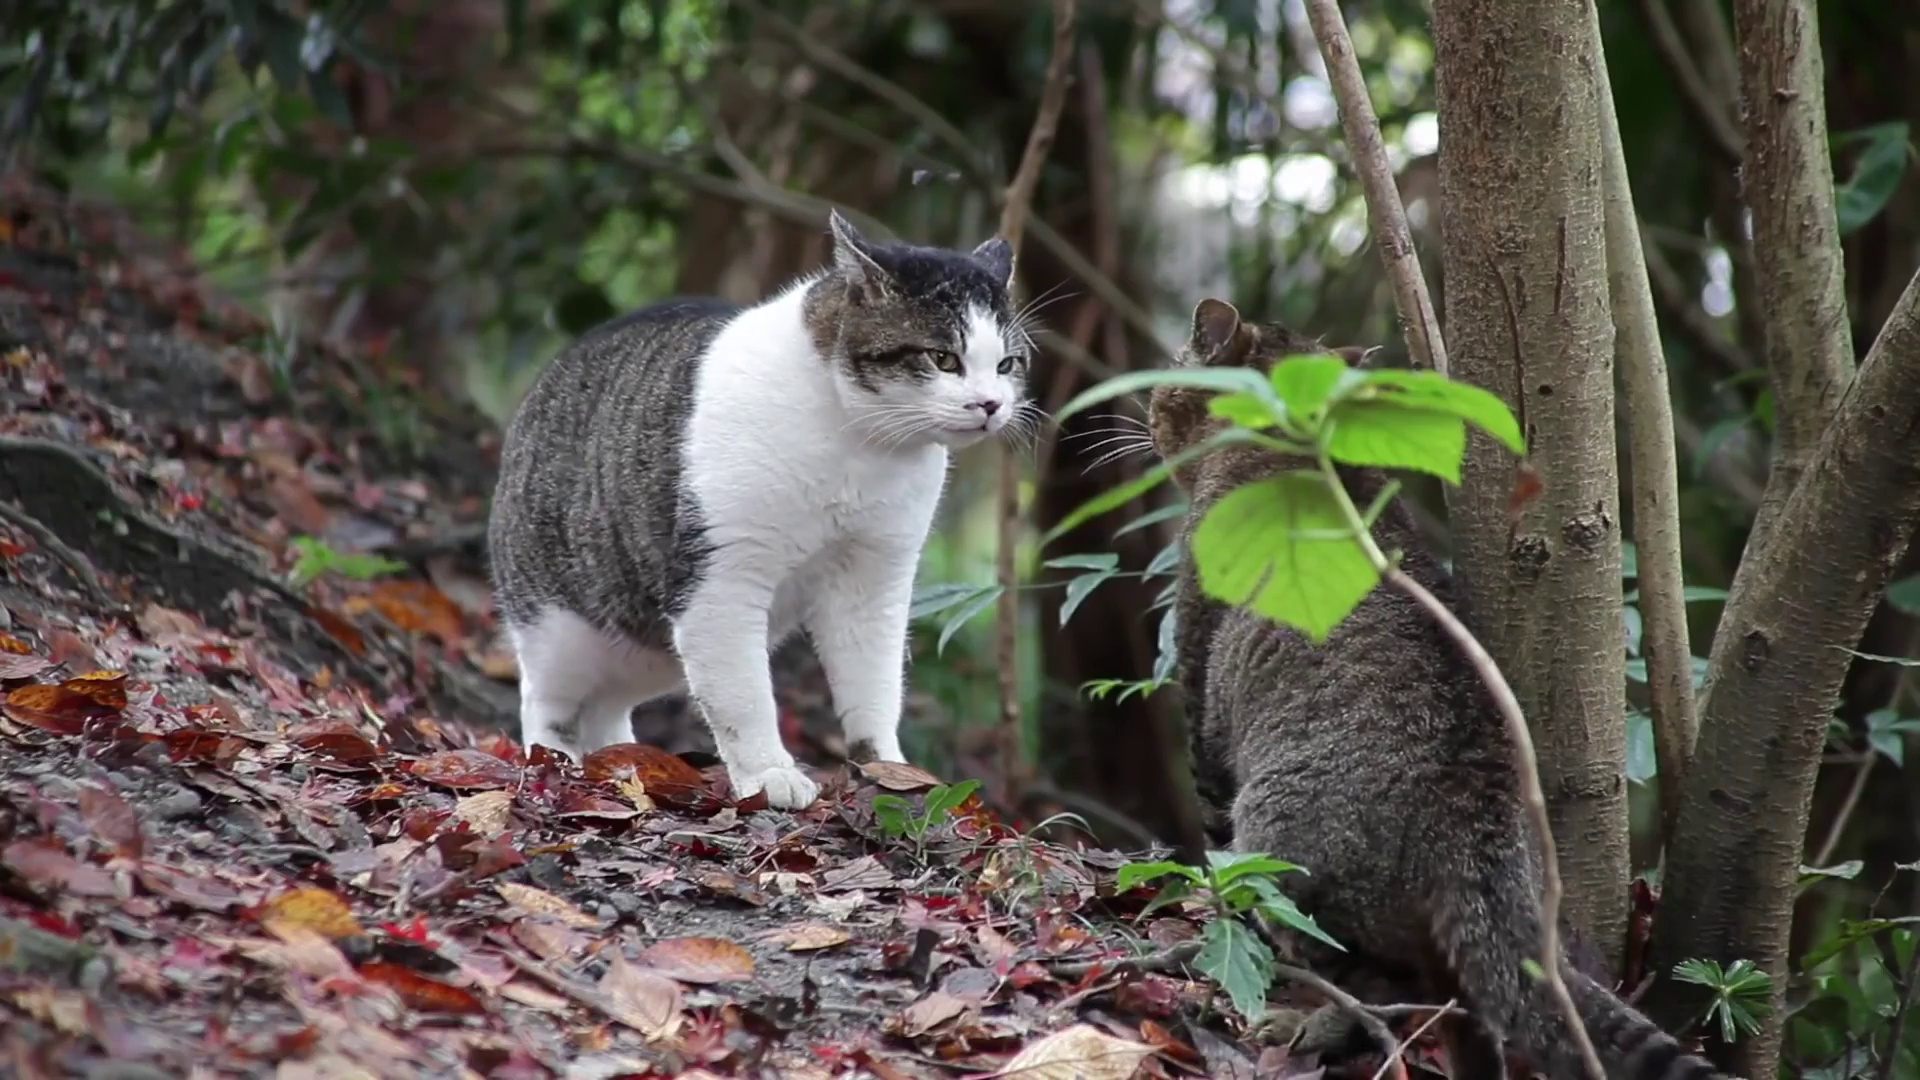black-white: (483, 208, 1027, 804)
pure black: (1147, 295, 1571, 1046)
